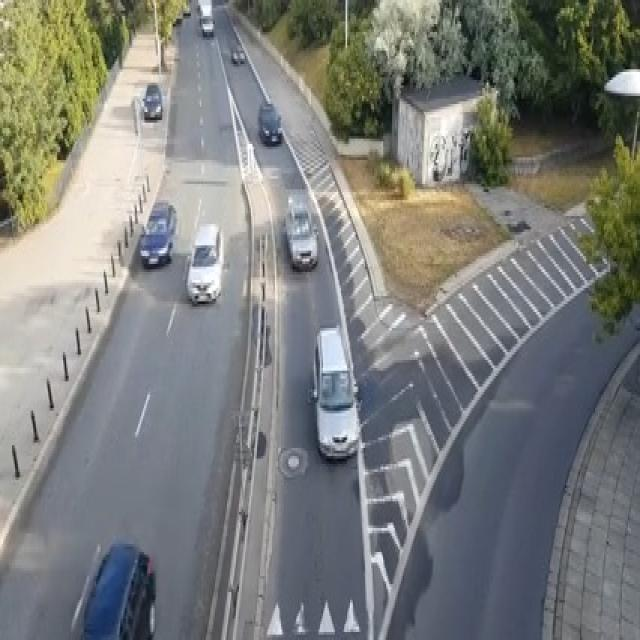car: (75, 539, 156, 637), (308, 323, 359, 461), (185, 221, 222, 304), (284, 192, 318, 269), (138, 200, 176, 267), (257, 101, 282, 144), (141, 83, 162, 120), (231, 43, 245, 64), (200, 13, 213, 35), (197, 0, 212, 16), (182, 0, 191, 16)
